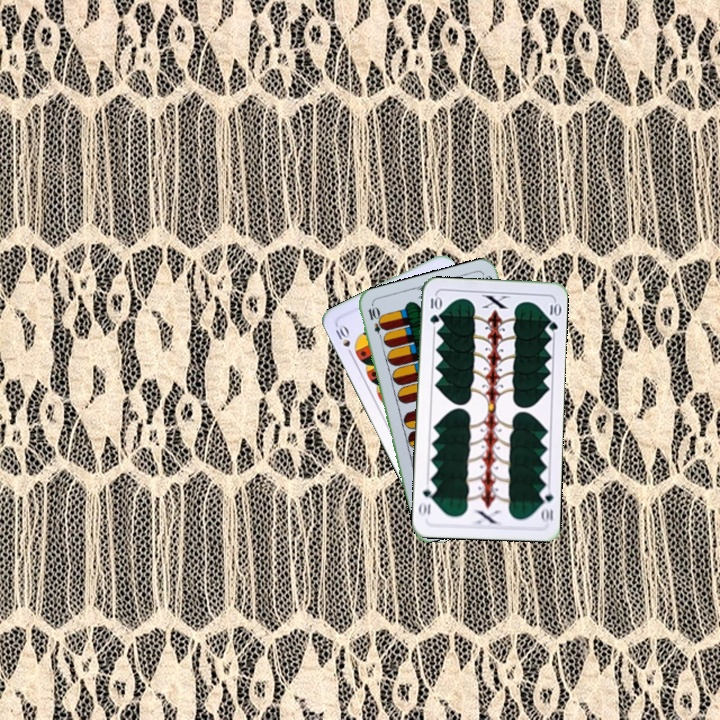E10: (364, 303, 386, 343)
G10: (536, 484, 556, 525), (426, 292, 442, 326)
S10: (331, 320, 356, 359)
